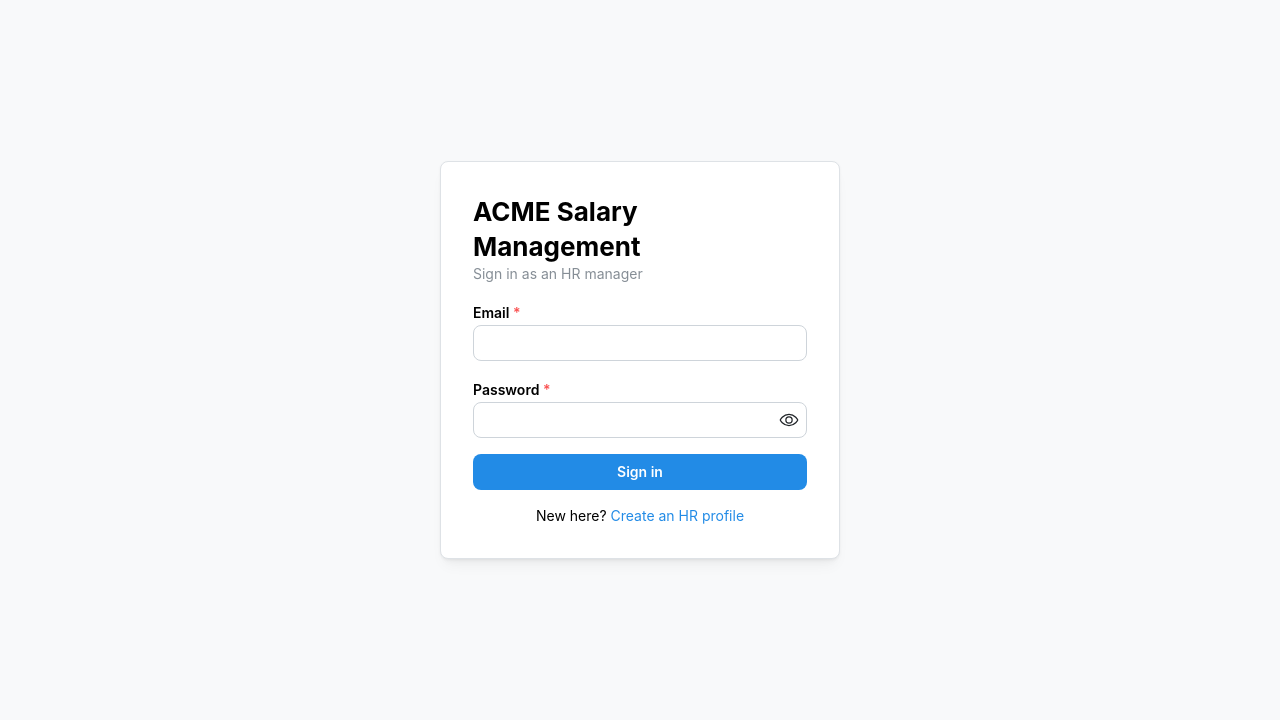
Test case: App › logs in and shows the employee list, fetching it only once or twice
The image size is (1280, 720).
Type "hr@acme.test" into the field labelled "Email *".
click(640, 343); type("hr@acme.test")  # box left=473, top=325, right=807, bottom=361
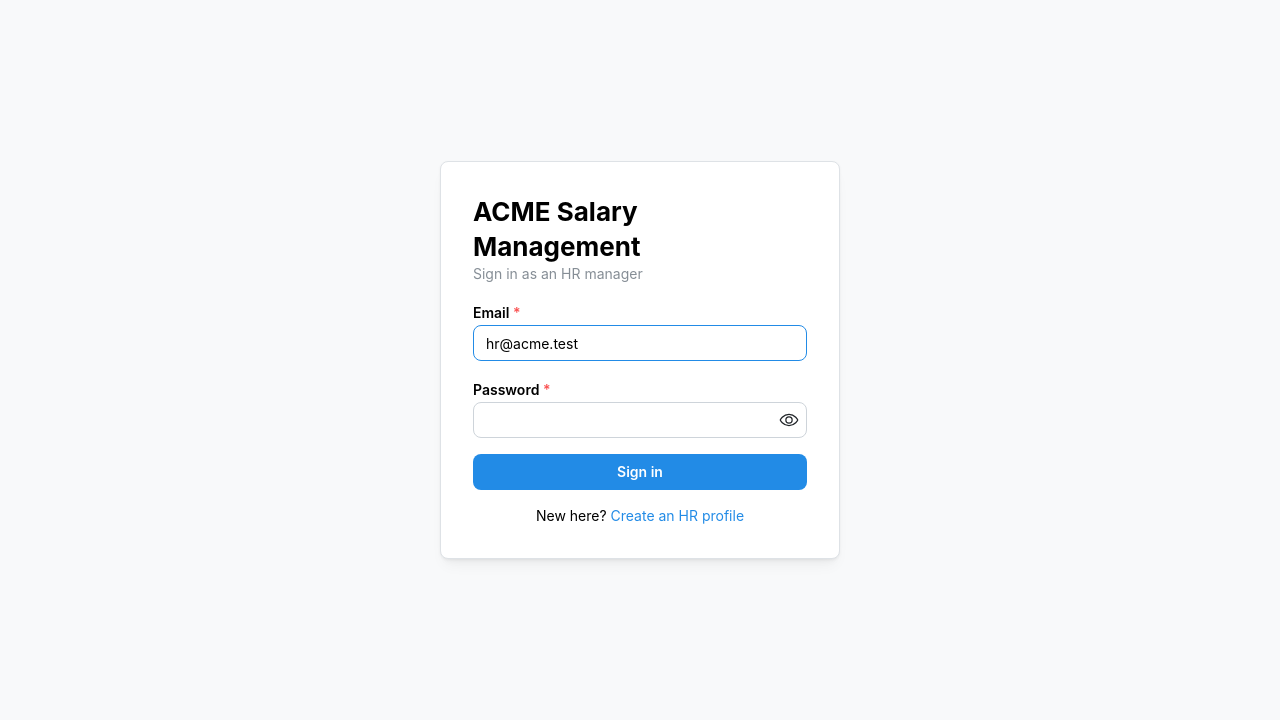
Type "pw" into the password field labelled "Password *".
click(640, 420); type("pw")  # box left=474, top=403, right=806, bottom=437
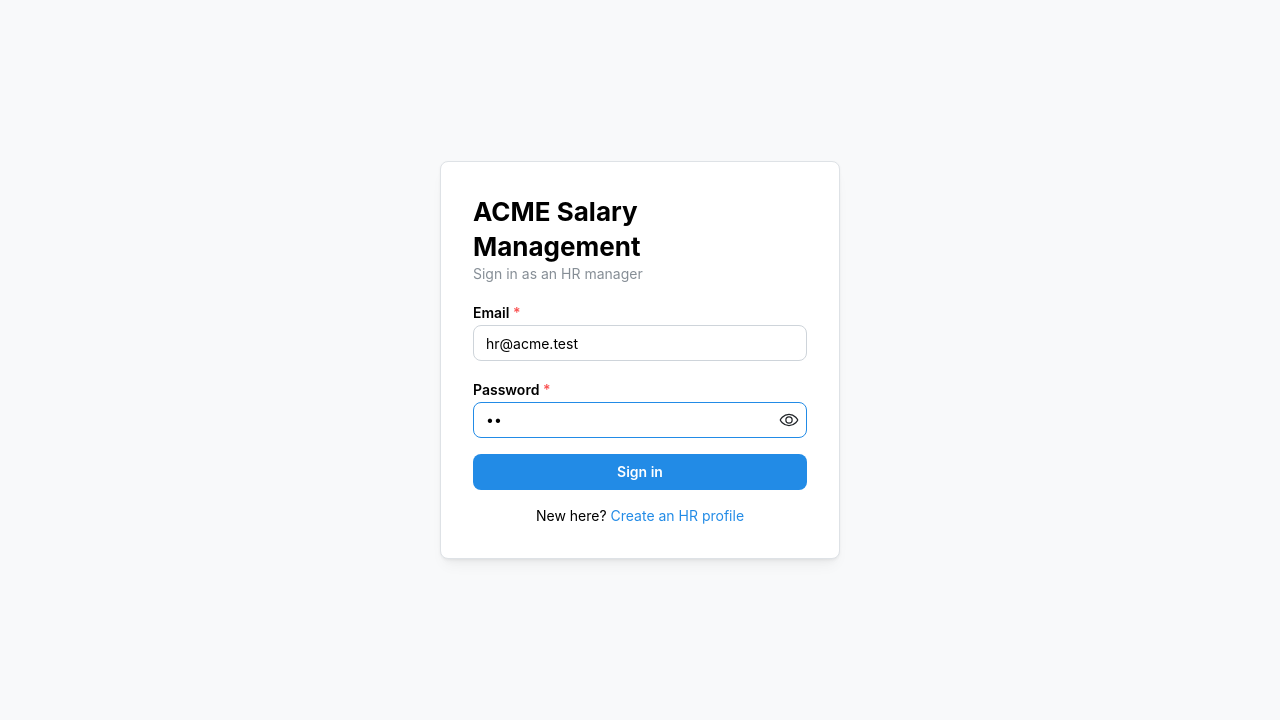
Click the button "Sign in".
click(640, 472)  # box left=473, top=454, right=807, bottom=490
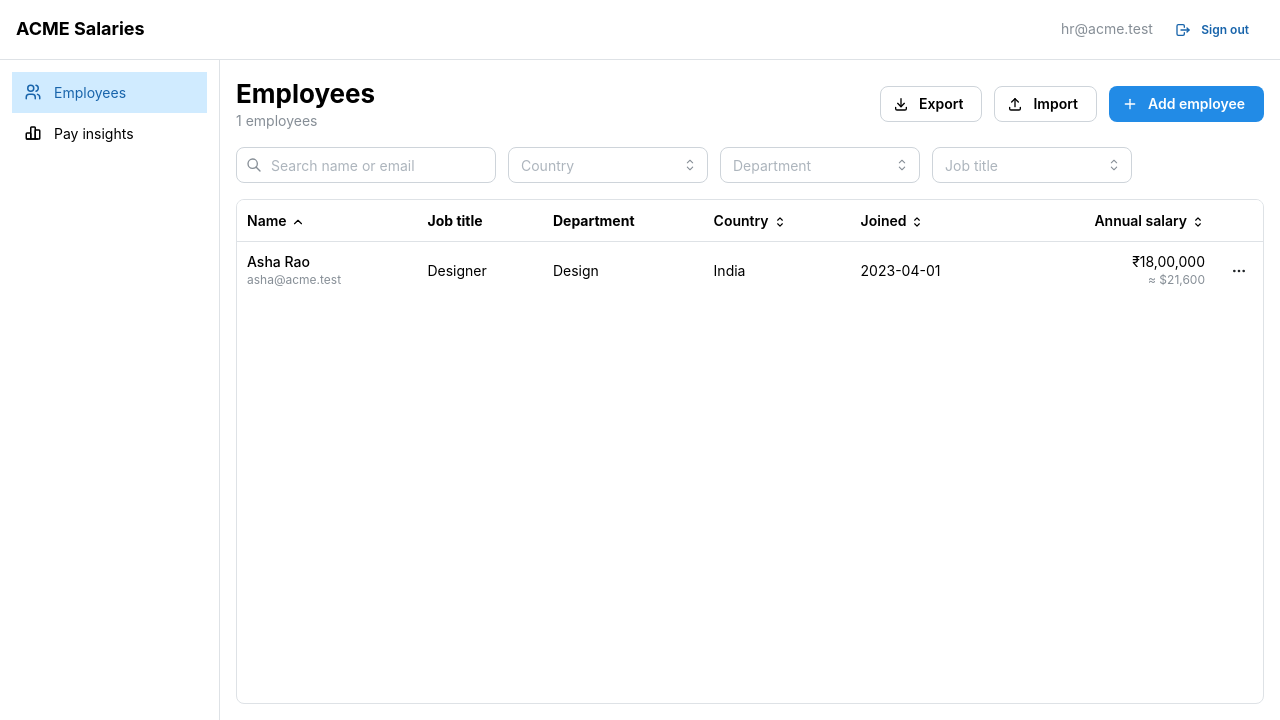
Check: the text "Asha Rao" is shown, box left=247, top=253, right=310, bottom=270
